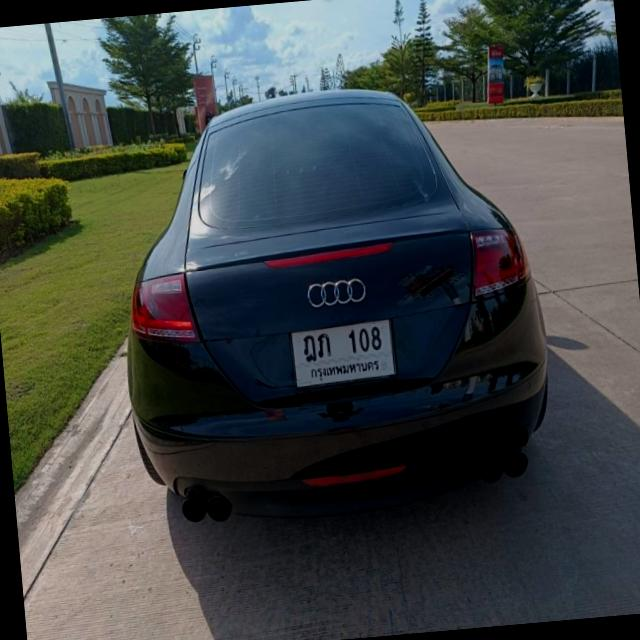license_plate: (287, 316, 398, 389)
